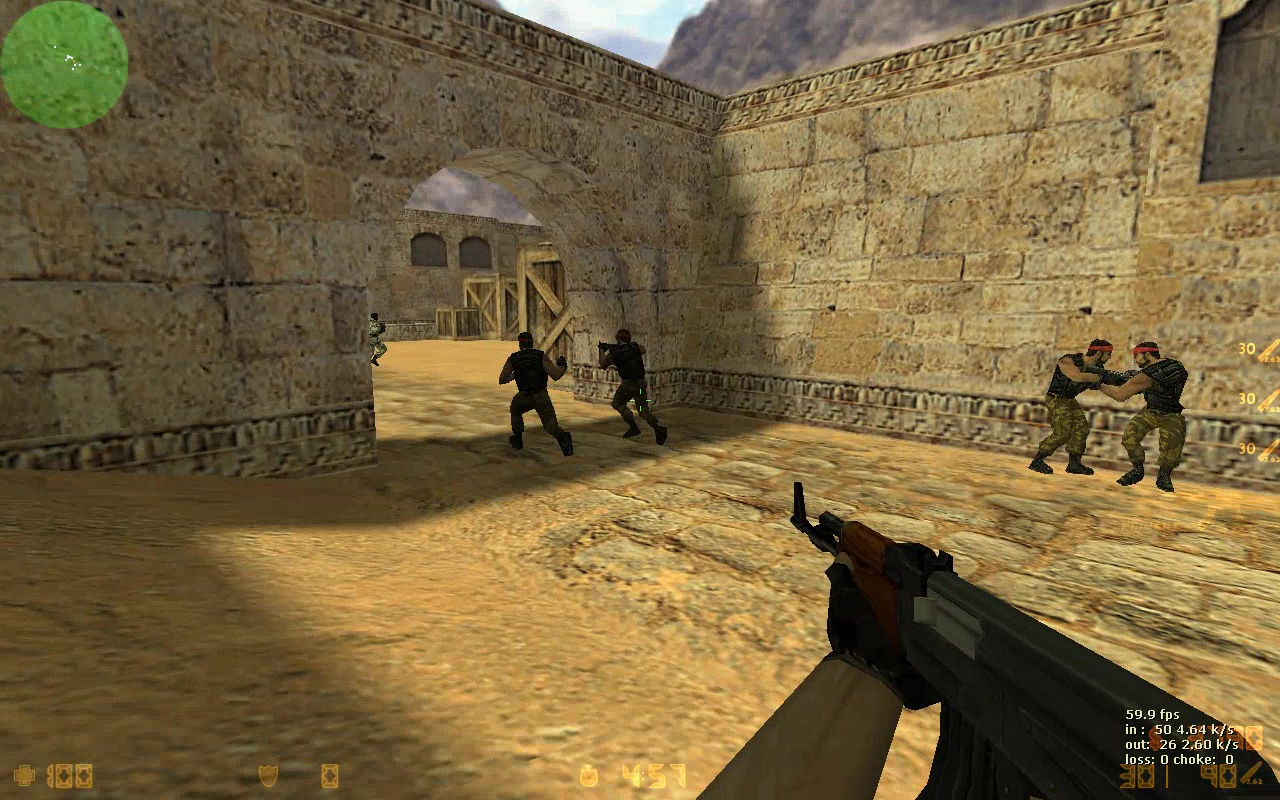terr1: (1099, 340, 1189, 490), (1029, 337, 1110, 474), (500, 333, 576, 459), (599, 330, 670, 444)
terr2: (367, 315, 387, 362)
